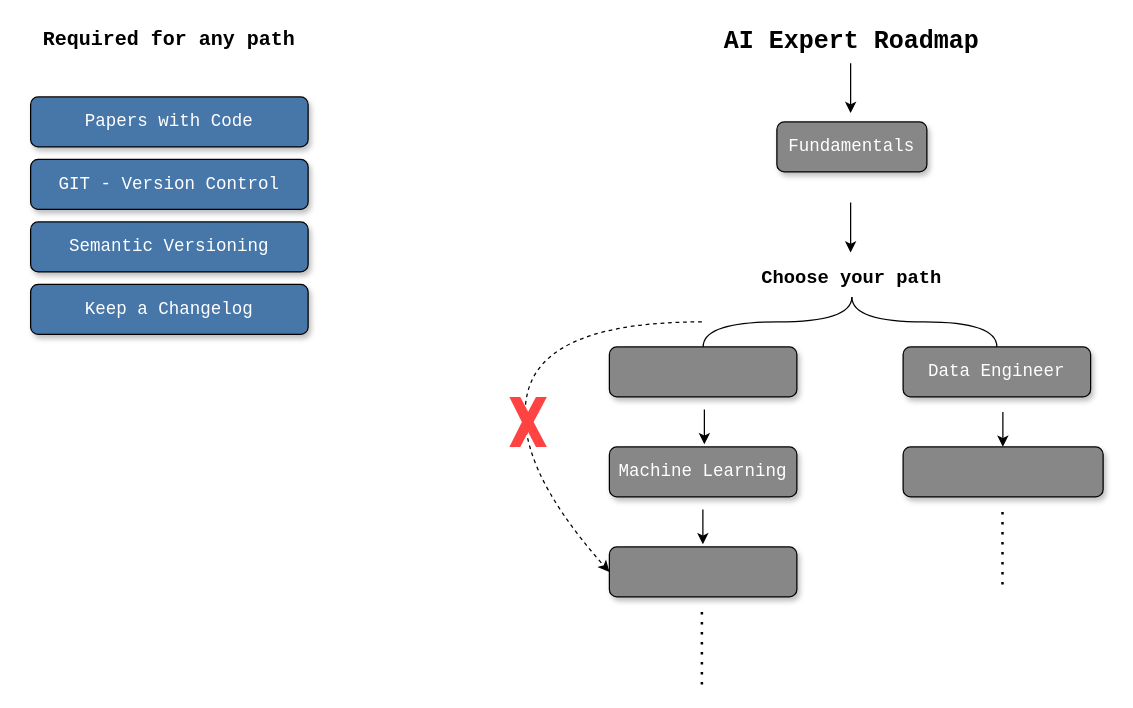
Some shapes in this 1133 by 708 pixel diagram are drawn without their labels. Here are the shapes that lost their labels. From the top down, the centre of each, then its label:
At (x=703, y=373): "Data Scientist".
At (x=1004, y=473): "Big Data Engineer".
At (x=703, y=573): "Deep Learning".
